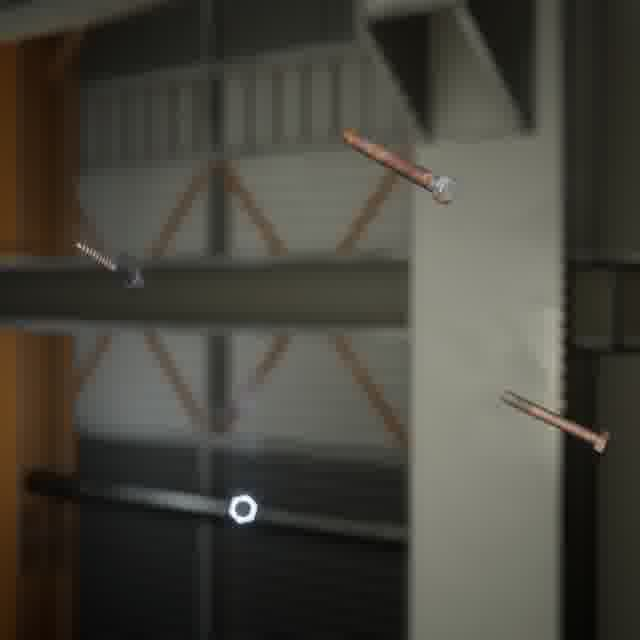bolt: (337, 125, 462, 209), (496, 385, 617, 460), (69, 237, 150, 296)
nut: (223, 489, 262, 528)
